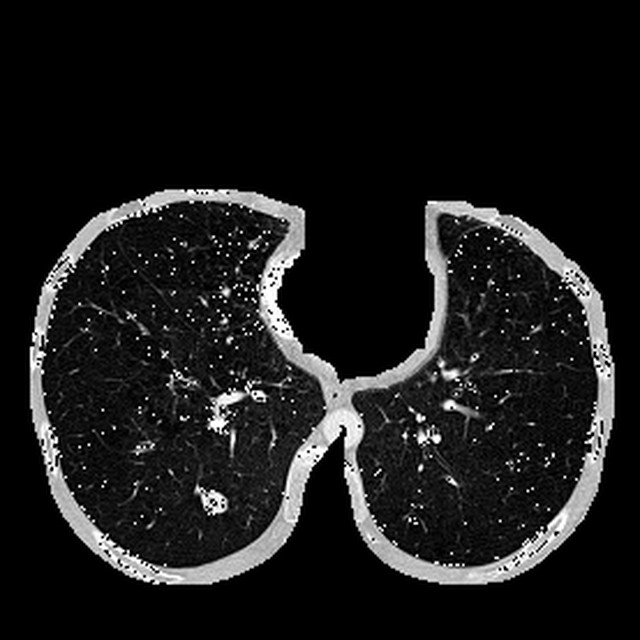PN: (199, 490, 226, 518)
